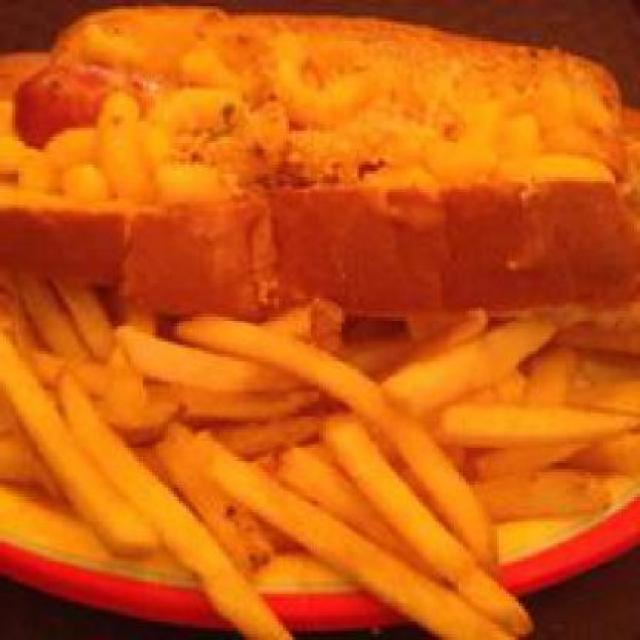french fries: (3, 305, 634, 637)
hot dog: (12, 46, 226, 143)
macaroni and cheese: (71, 93, 600, 196)
